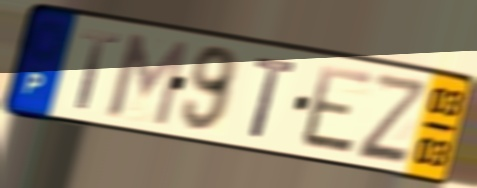9: (177, 43, 243, 136)
E: (298, 61, 377, 159)
M: (104, 29, 192, 130)
T: (248, 54, 301, 142), (76, 26, 123, 113)
Z: (354, 69, 427, 163)
